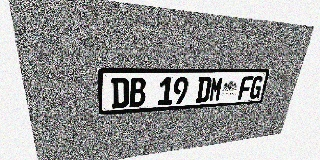1: (157, 77, 174, 105)
9: (172, 77, 189, 104)
B: (129, 77, 146, 107)
D: (111, 77, 129, 108), (195, 76, 212, 103)
F: (238, 76, 254, 100)
G: (248, 76, 264, 99)
M: (208, 76, 224, 102)
